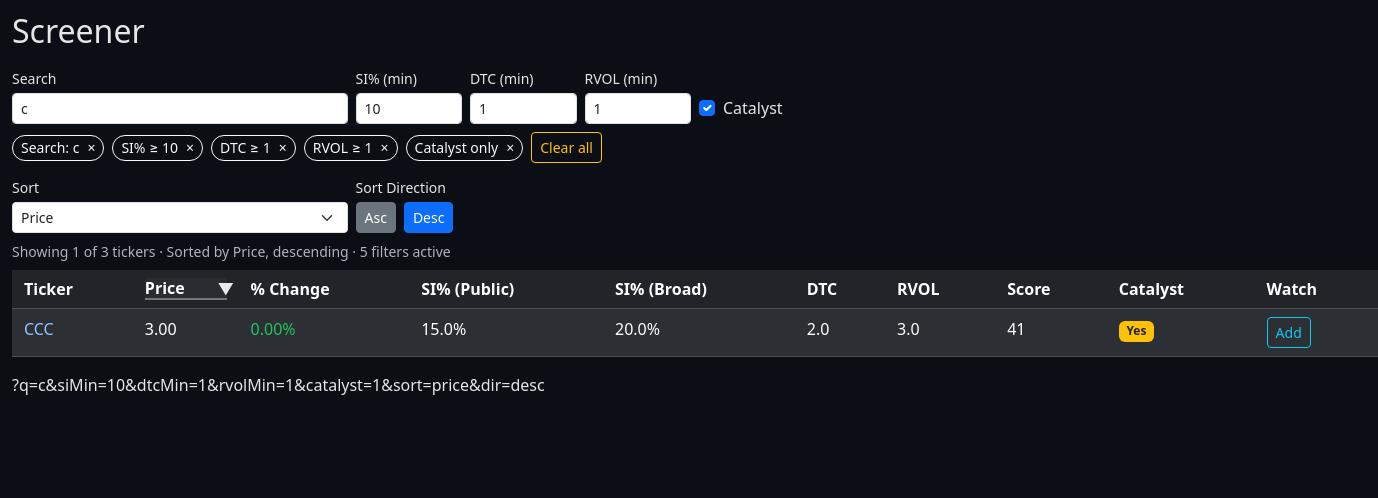
Scenario: ScreenerPage toolbar › Clear all resets every filter, keeps sort, and updates the URL
Click the button "Clear all" at (567, 148), box [531,132,602,163]
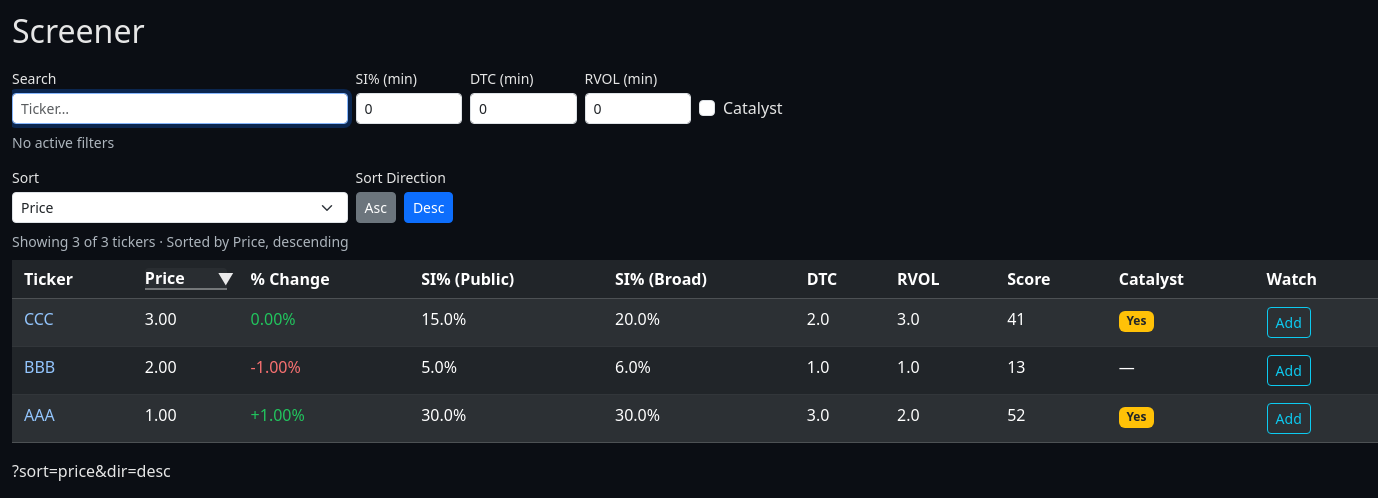
Now the text "No active filters" is shown, box [12,133,114,152]
Now the field labelled "Search" is empty, box [12,93,348,124]
Now the number field labelled "DTC (min)" holds "0", box [470,93,576,124]
